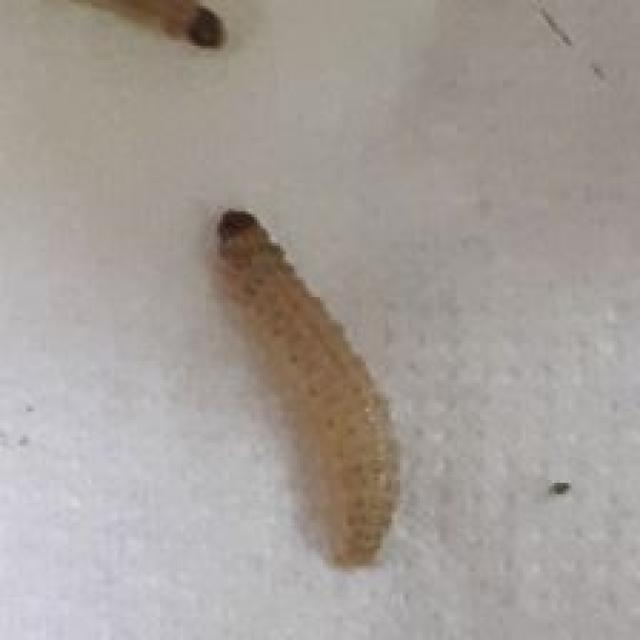white mucus: (182, 179, 433, 591)
